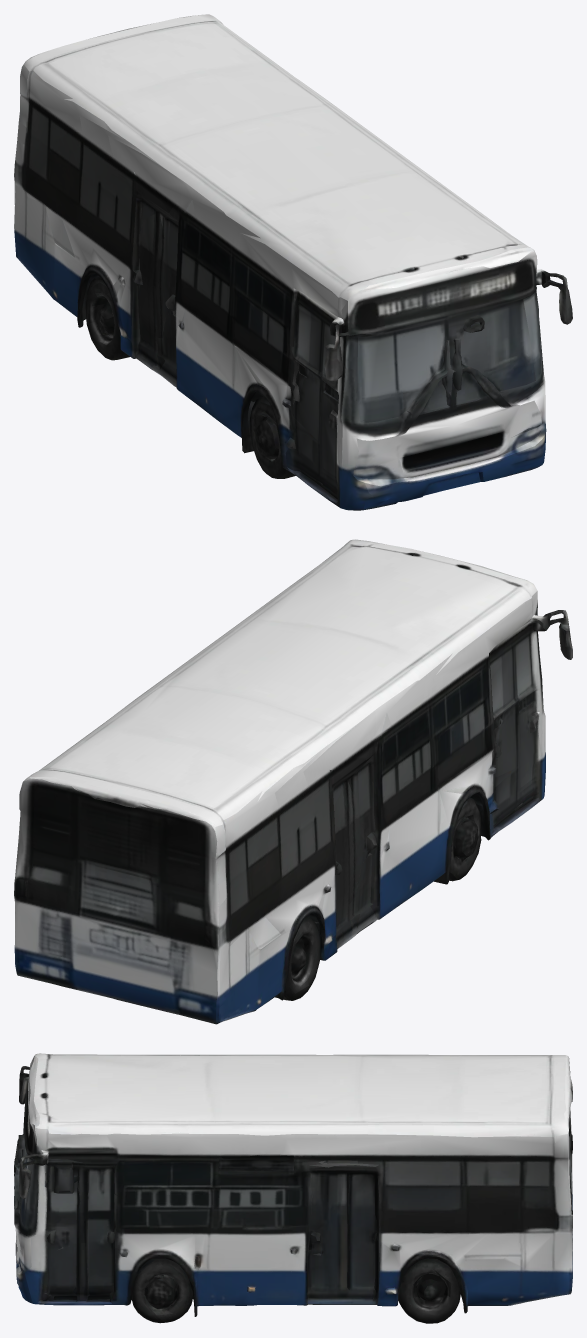
File: bus.glb
3 views of the same model, one above another, from view 1: azimuth 30°, elevation 25°; view 2: azimuth 150°, elevation 25°; view 3: azimuth 270°, elevation 25° (orthographic). The views are drawn at different scales.
Visible parts, largest first — view 1: world; view 2: world; view 3: world.
Part boxes in pixels (x1,y1,x2,y2): world: (14,14,572,510); world: (14,539,572,1024); world: (14,1053,572,1323).
Bounding box in the file's own units: 12 × 11.44 × 28.72.
Materials: 1 (1 with a texture image).
